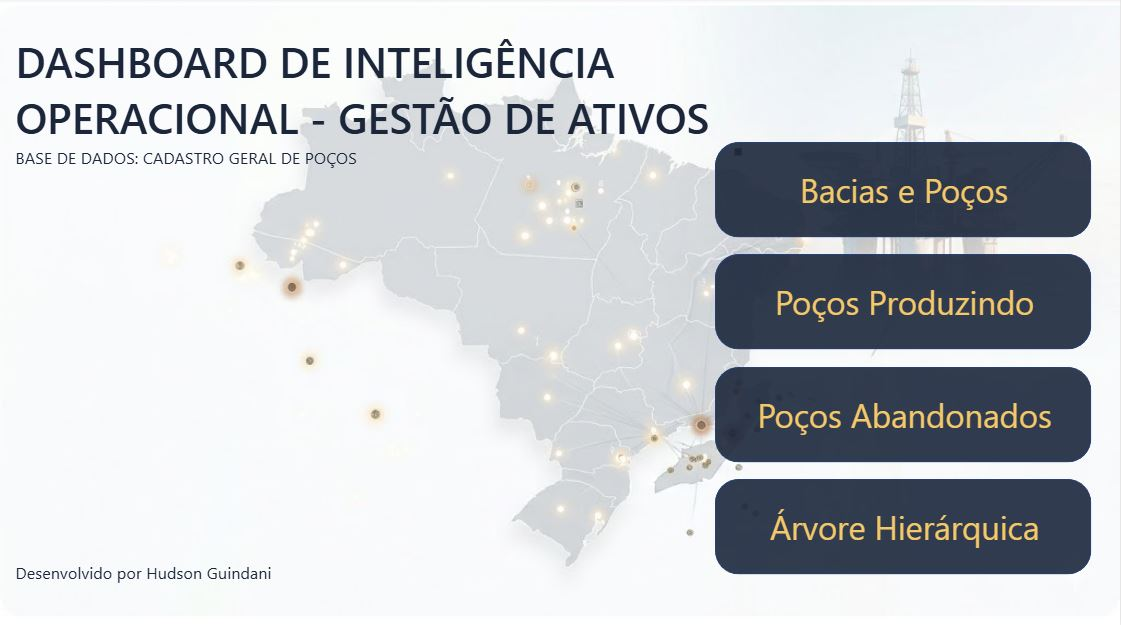

This screenshot's page, from the dashboard's own definition file:
{"tool":"powerbi","page":{"name":"Página Inicial","canvas":[1280,720],"ordinal":0},"visuals":[{"type":"shape","box":[817.6,292.8,430,109],"z":0},{"type":"shape","box":[817.6,421.4,430,109],"z":1000},{"type":"shape","box":[817.6,550.1,430,109],"z":2000},{"type":"textbox","title":"DASHBOARD DE INTELIGÊNCIA OPERACIONAL - GESTÃO DE ATIVOS","box":[12.1,38.6,839.7,146],"z":3000},{"type":"textbox","title":"BASE DE DADOS: CADASTRO GERAL DE POÇOS","box":[12.1,168.9,419.8,56.7],"z":4000},{"type":"textbox","title":"Desenvolvido por Hudson Guindani","box":[12.1,643,419.8,56.7],"z":5000},{"type":"shape","box":[817.6,164.2,430,109],"z":6000},{"type":"actionButton","box":[842.9,180.1,379.8,77.2],"z":7000},{"type":"actionButton","box":[844.1,566,378.6,77.2],"z":8000},{"type":"actionButton","box":[844.1,437.4,378.6,77.2],"z":9000},{"type":"actionButton","box":[844.1,308.7,378.6,77.2],"z":10000}]}

Visuals, with their boxes in screenshot pixels (x1, y1, x2, y2), scaled from the page's 1280x720 canvas onto the 1121x625 screenshot:
shape: {"left": 716, "top": 254, "right": 1093, "bottom": 349}
shape: {"left": 716, "top": 366, "right": 1093, "bottom": 460}
shape: {"left": 716, "top": 478, "right": 1093, "bottom": 572}
"DASHBOARD DE INTELIGÊNCIA OPERACIONAL - GESTÃO DE ATIVOS" textbox: {"left": 11, "top": 34, "right": 746, "bottom": 160}
"BASE DE DADOS: CADASTRO GERAL DE POÇOS" textbox: {"left": 11, "top": 147, "right": 378, "bottom": 196}
"Desenvolvido por Hudson Guindani" textbox: {"left": 11, "top": 558, "right": 378, "bottom": 607}
shape: {"left": 716, "top": 143, "right": 1093, "bottom": 237}
actionButton: {"left": 738, "top": 156, "right": 1071, "bottom": 223}
actionButton: {"left": 739, "top": 491, "right": 1071, "bottom": 558}
actionButton: {"left": 739, "top": 380, "right": 1071, "bottom": 447}
actionButton: {"left": 739, "top": 268, "right": 1071, "bottom": 335}
